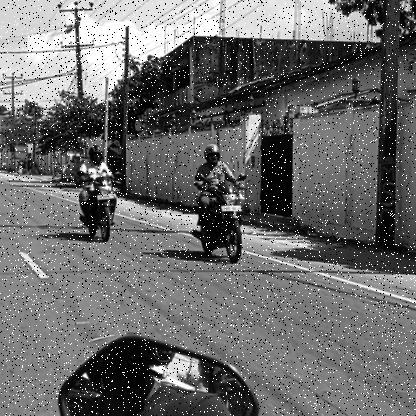motorcycle: (189, 180, 252, 268), (76, 176, 122, 244)
